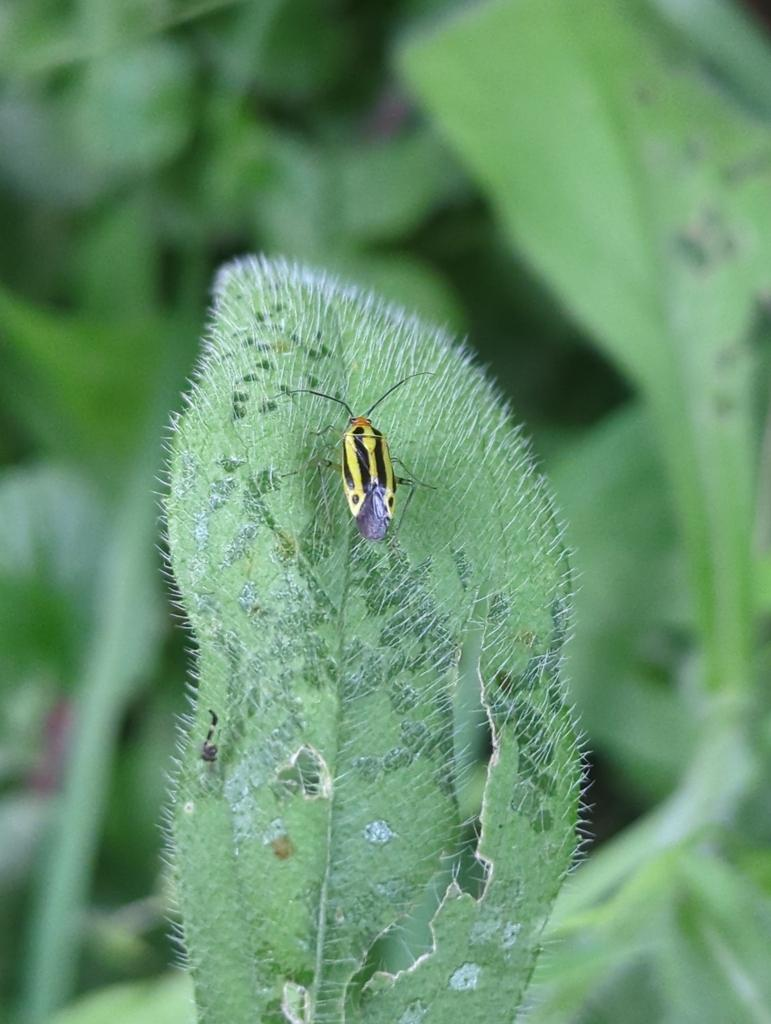plant_bugs: (253, 334, 489, 586)
